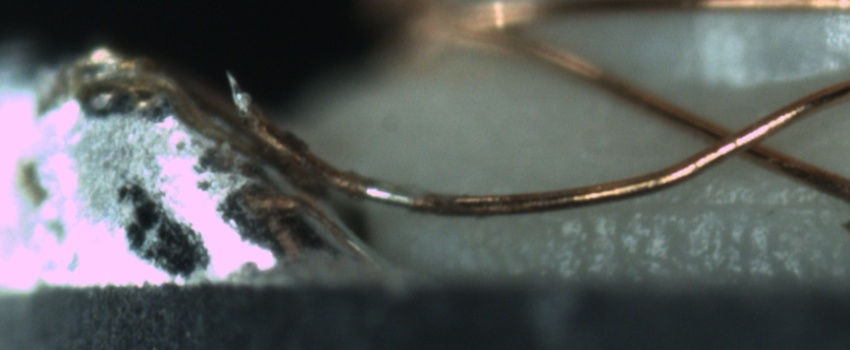CL: (684, 107, 783, 168)
DL: (531, 170, 850, 234)
